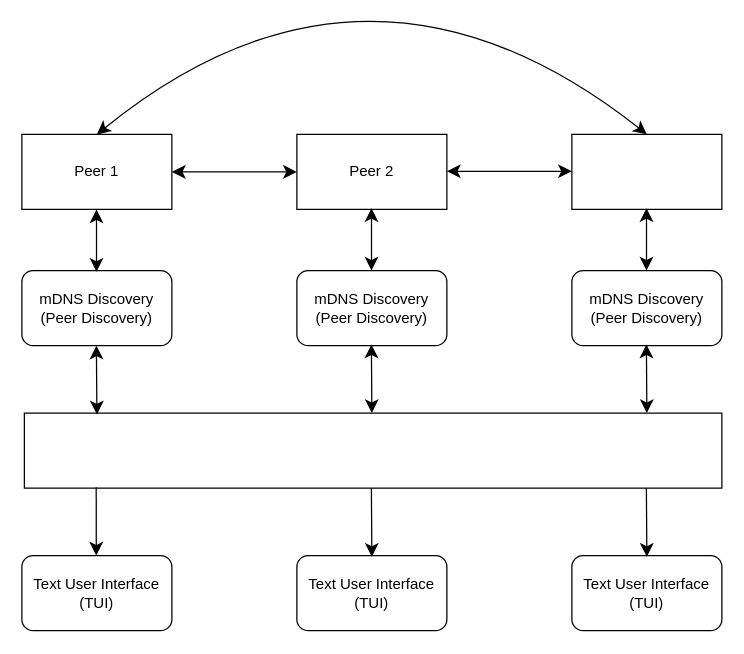
Some shapes in this 744 by 654 pixel diagram are drawn without their labels. The centre of each missing label's shape, as x and y in pixels:
Peer 3: point (646, 171)
PubSub (Messaging) system: point (372, 450)
